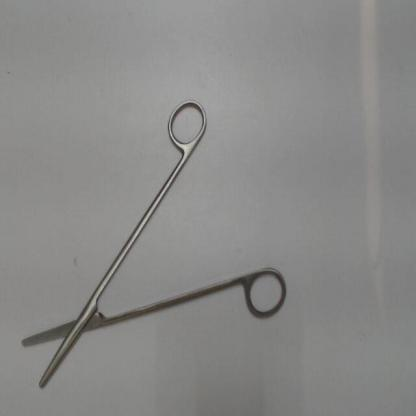9 Metzenbaum Scissors: (16, 89, 293, 403)
